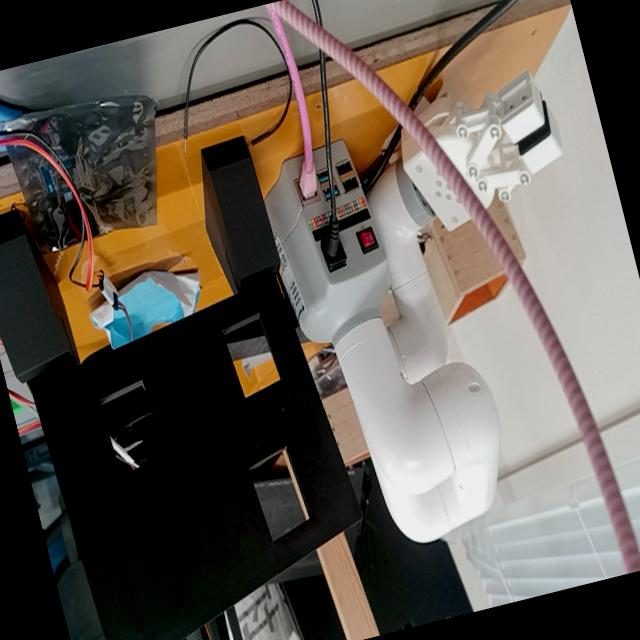Obstacle: (99, 383, 163, 473), (248, 450, 309, 540), (222, 315, 280, 398)
Wall: (31, 278, 363, 640)
